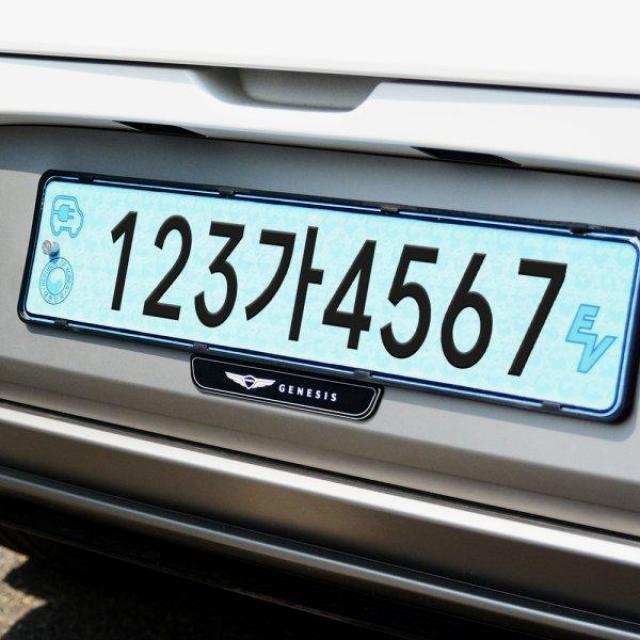EV_plate: (26, 160, 640, 444)
